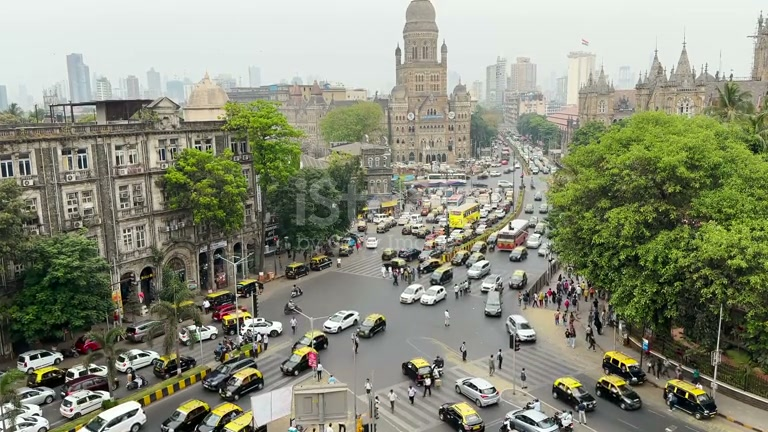car: (78, 399, 147, 432), (663, 378, 717, 419), (203, 356, 259, 393), (219, 361, 265, 402), (195, 401, 253, 432), (595, 374, 643, 411), (159, 398, 210, 432), (500, 405, 564, 432), (551, 374, 596, 412), (437, 401, 486, 432), (602, 349, 645, 384), (59, 390, 109, 420), (455, 376, 501, 408), (115, 349, 161, 374), (16, 349, 63, 372), (505, 314, 537, 345), (323, 309, 360, 334), (15, 386, 57, 406), (356, 312, 387, 338), (419, 284, 447, 306), (467, 258, 492, 280), (399, 284, 425, 304), (484, 291, 502, 318), (480, 275, 500, 294), (509, 245, 527, 262)
pedestrian: (460, 340, 467, 362)
